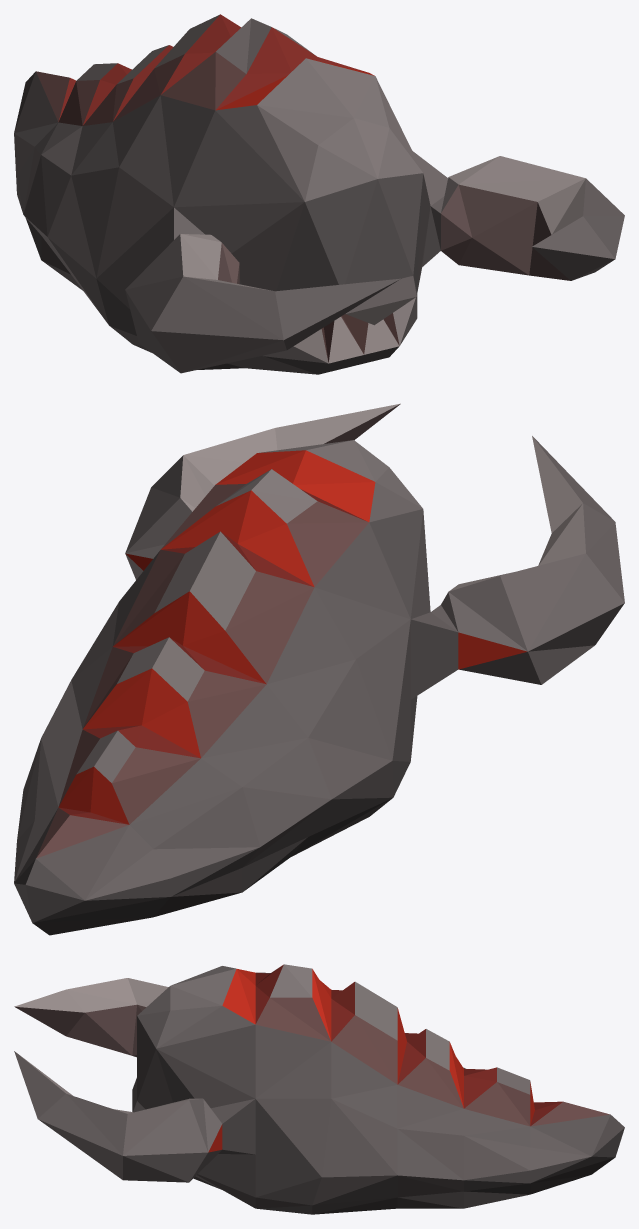
3 views of the same model, one above another, from view 1: azimuth 30°, elevation 25°; view 2: azimuth 150°, elevation 25°; view 3: azimuth 270°, elevation 25° (orthographic). The views are drawn at different scales.
Bounding box in the file's own units: 80 × 49 × 129.
Materials: 2 (2 with a texture image).
